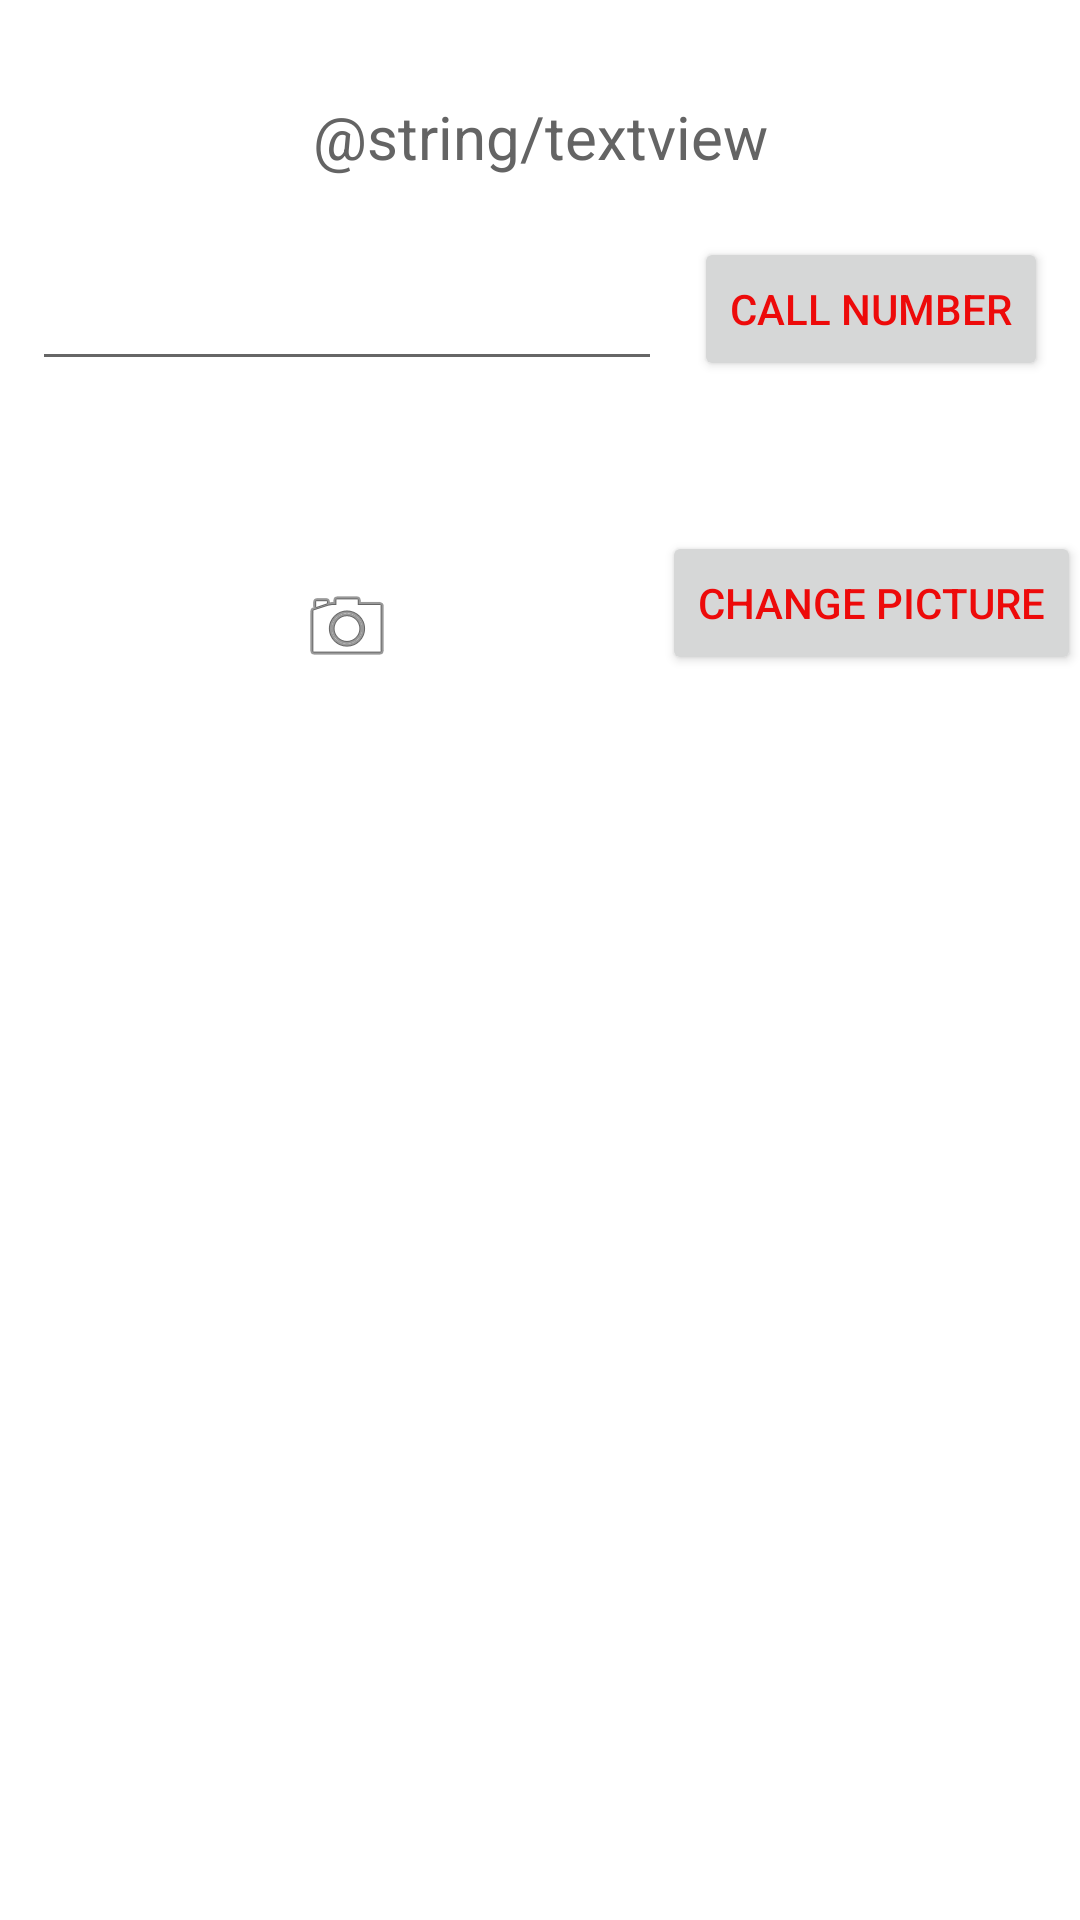

Where to tap for icons on this 1080px×1920px app screen, as point (x, y):
camera: point (347, 625)
